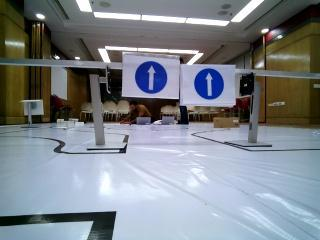straight: (127, 56, 182, 100), (183, 63, 235, 104)
